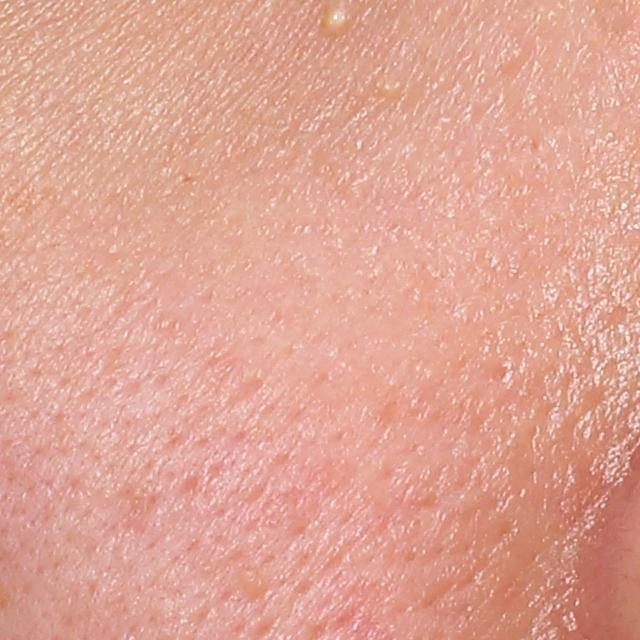atrophic_scar: (119, 481, 159, 542), (218, 375, 264, 415)
comedo: (315, 2, 361, 42), (237, 566, 273, 599)
